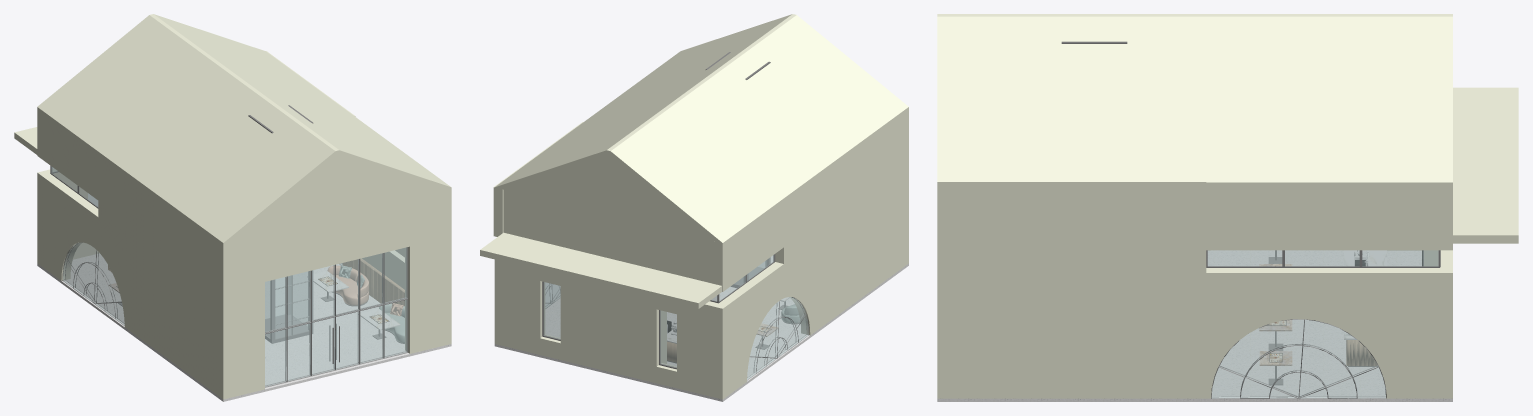
The model's file is cafe.glb.
3 views of the same model, side by side, from view 1: azimuth 30°, elevation 25°; view 2: azimuth 150°, elevation 25°; view 3: azimuth 270°, elevation 25° (orthographic). The views are drawn at different scales.
Parts seen in each view (by area): view 1: Box096, Box004, Box078, Box020, Box003, Box006, Box001, Box093, Box090, Cylinder010, Box005, Box089 (+10 smaller); view 2: Box096, Box078, Box066, Box010, Box095, Box093, Box020, Box090, Box008, Box015, Box089, Cylinder010 (+10 smaller); view 3: Box096, Box002, Box032, Box020, Box009, Cylinder002, Box095, Box007, Box023, Box001, Cylinder005, Box024 (+2 smaller).
Part boxes in pixels (bbox=[...]): Box096: bbox=[37, 14, 451, 242]; Box004: bbox=[265, 247, 407, 386]; Box078: bbox=[126, 172, 217, 395]; Box020: bbox=[37, 253, 451, 401]; Box003: bbox=[218, 233, 264, 399]; Box006: bbox=[265, 197, 409, 281]; Box001: bbox=[405, 187, 451, 353]; Box093: bbox=[37, 107, 126, 220]; Box090: bbox=[59, 187, 126, 327]; Cylinder010: bbox=[63, 242, 124, 325]; Box005: bbox=[265, 247, 408, 387]; Box089: bbox=[37, 170, 67, 279]; Box096: bbox=[495, 14, 908, 242]; Box078: bbox=[812, 111, 903, 333]; Box066: bbox=[503, 190, 713, 283]; Box010: bbox=[560, 275, 661, 383]; Box095: bbox=[480, 232, 721, 308]; Box093: bbox=[713, 178, 811, 291]; Box020: bbox=[494, 256, 908, 401]; Box090: bbox=[737, 244, 811, 382]; Box008: bbox=[503, 262, 545, 354]; Box015: bbox=[677, 301, 717, 397]; Box089: bbox=[713, 290, 745, 399]; Cylinder010: bbox=[747, 297, 808, 379]; Box096: bbox=[937, 14, 1452, 181]; Box002: bbox=[952, 182, 1206, 398]; Box032: bbox=[1206, 182, 1452, 250]; Box020: bbox=[937, 250, 1452, 401]; Box009: bbox=[1206, 268, 1390, 398]; Cylinder002: bbox=[1211, 319, 1385, 398]; Box095: bbox=[1453, 87, 1518, 243]; Box007: bbox=[1391, 266, 1452, 398]; Box023: bbox=[1207, 250, 1438, 266]; Box001: bbox=[937, 182, 951, 398]; Cylinder005: bbox=[1211, 319, 1386, 398]; Box024: bbox=[1206, 250, 1439, 267].
Size of the model in its own units: 10.04 by 9.35 by 15.91.
Materials: 36 (11 with a texture image).
